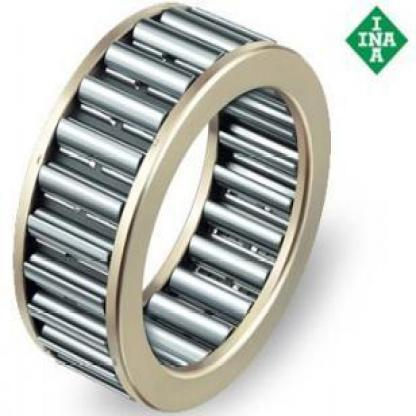FOD: (8, 0, 334, 415)
